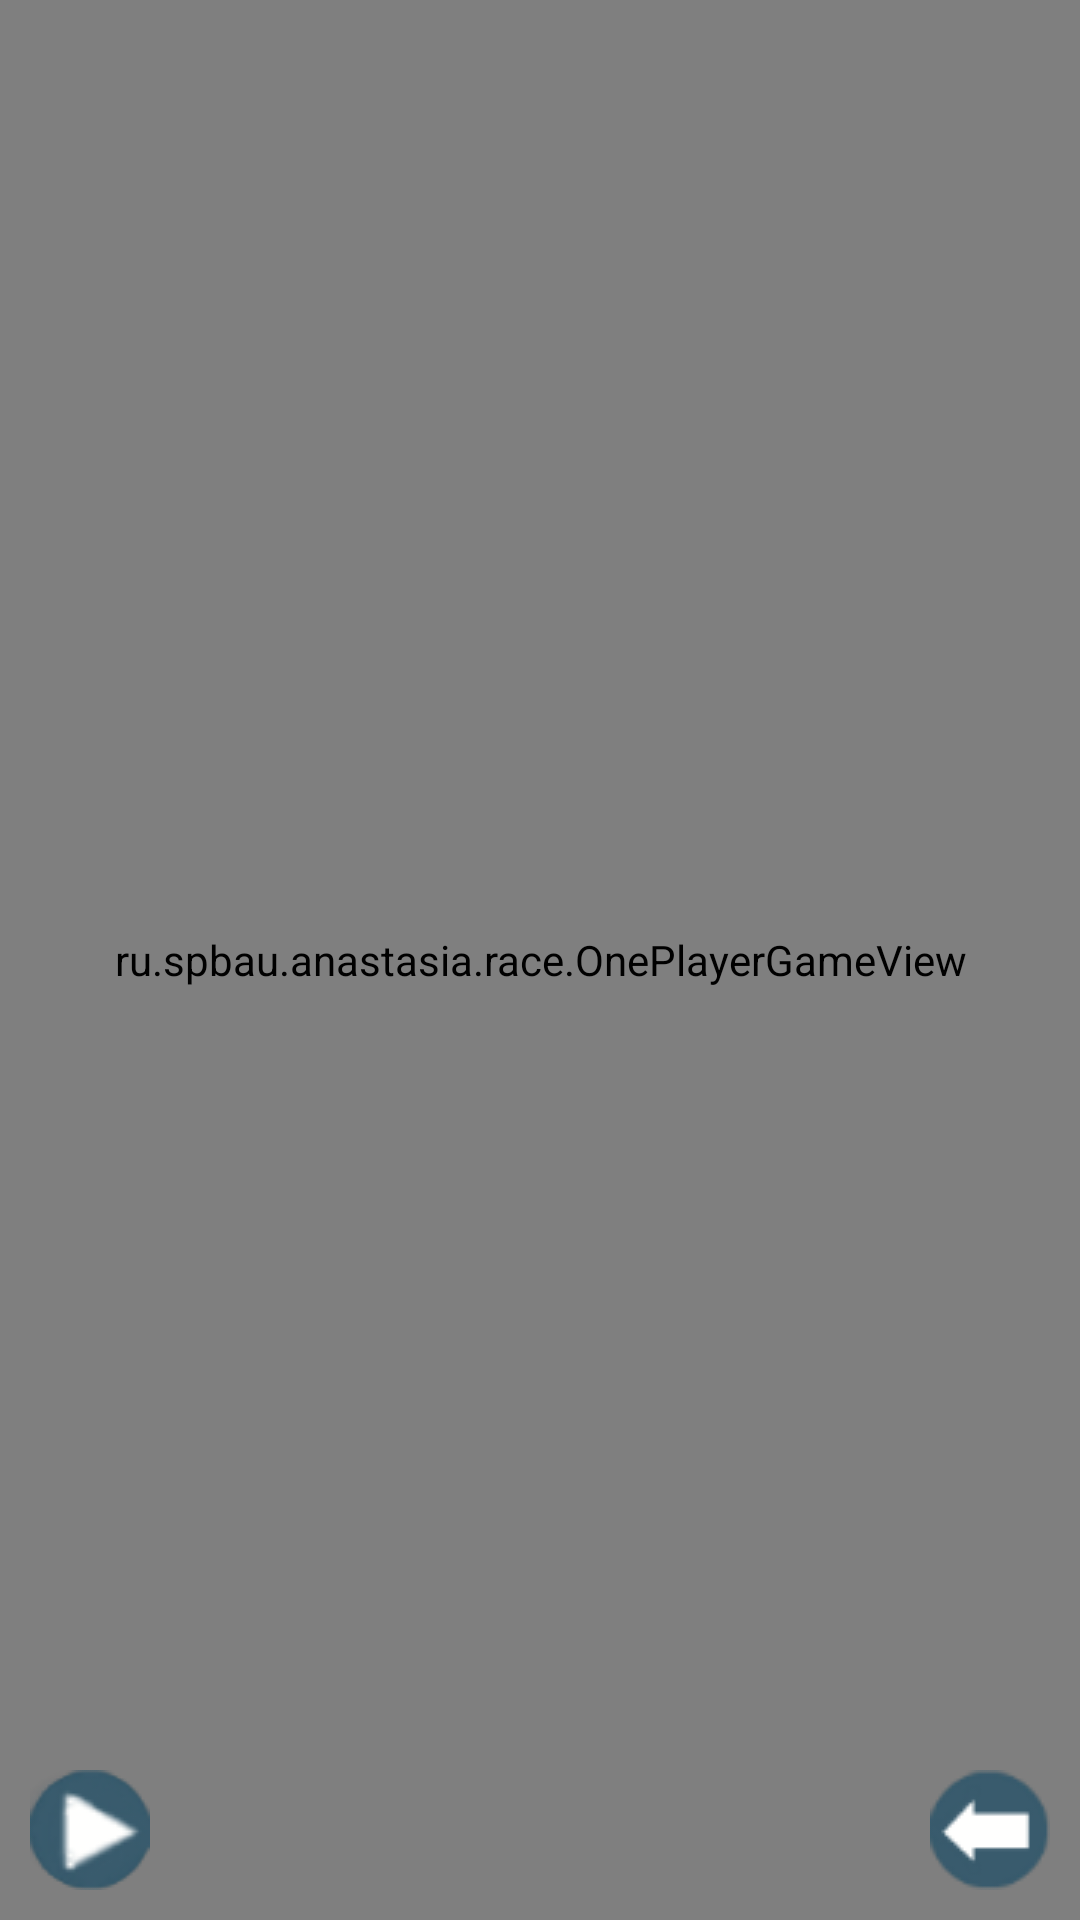

Icons on this 1080*1920 Android screen, each with the point to tap as (x,y):
Back for previous activity button: (989,1829)
